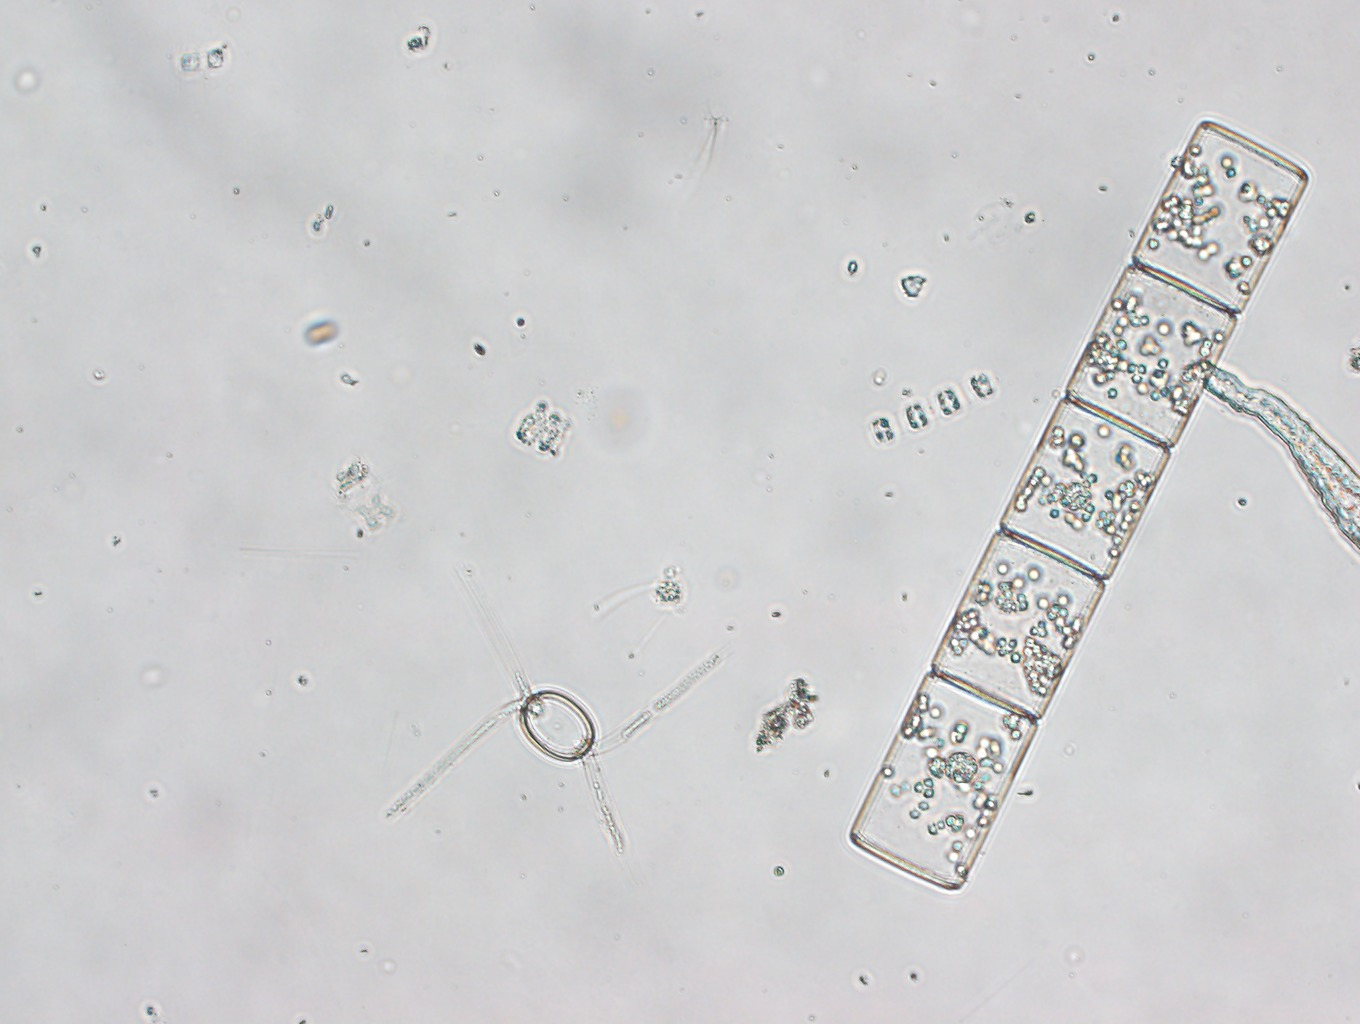chaetoceros: (373, 547, 733, 866)
guinardia flaccida: (841, 112, 1316, 901)
skeletonema: (856, 365, 1007, 458)
